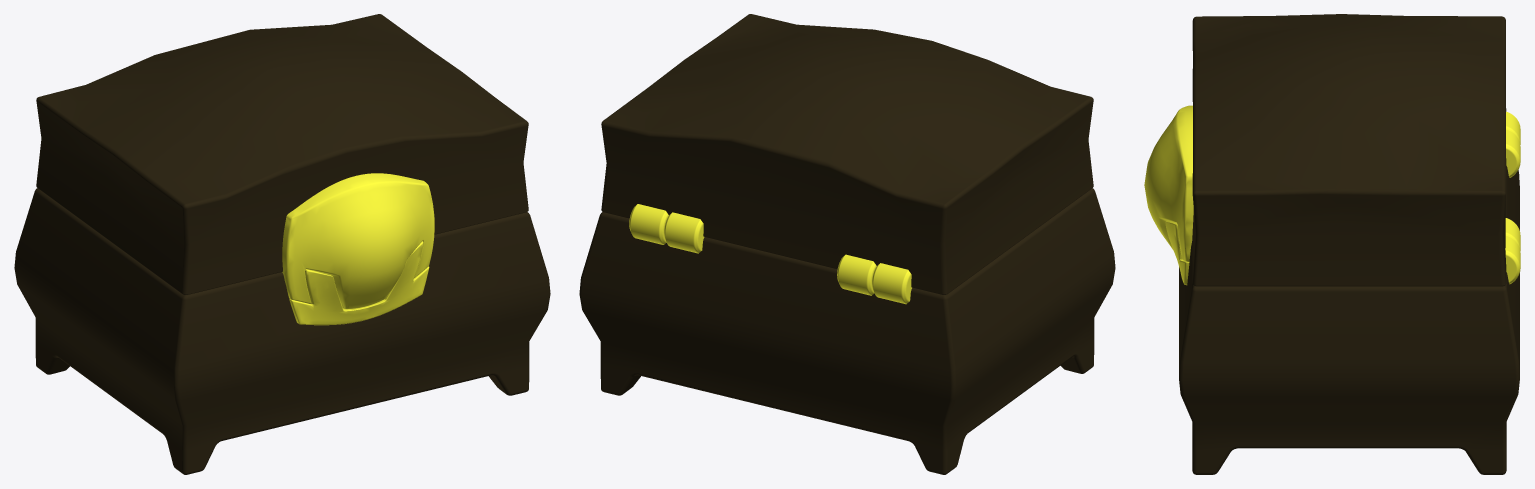
The model's file is chest-2.glb.
The picture shows the model from 3 angles, left to right: view 1: azimuth 30°, elevation 25°; view 2: azimuth 150°, elevation 25°; view 3: azimuth 270°, elevation 25°; orthographic projection. The views are drawn at different scales.
Visible parts, largest first — view 1: lid.001, chest.001, lock top.001, lock bottom.001; view 2: lid.001, chest.001, hinges.001; view 3: lid.001, chest.001, lock top.001, hinges.001, lock bottom.001.
Part boxes in pixels (<box>): lid.001: <box>36,14,528,294</box>; chest.001: <box>14,188,550,474</box>; lock top.001: <box>282,173,434,309</box>; lock bottom.001: <box>289,241,429,325</box>; lid.001: <box>601,14,1093,294</box>; chest.001: <box>579,188,1115,474</box>; hinges.001: <box>629,204,911,304</box>; lid.001: <box>1192,14,1506,286</box>; chest.001: <box>1179,166,1519,474</box>; lock top.001: <box>1144,105,1193,261</box>; hinges.001: <box>1505,111,1520,284</box>; lock bottom.001: <box>1165,221,1189,285</box>.
Bounding box in the file's own units: 1.17 × 0.9284 × 0.967.
